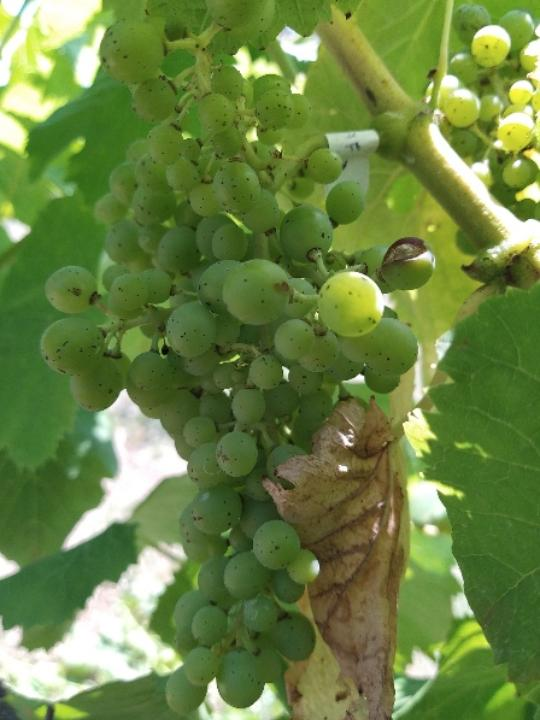grape: (36, 0, 441, 720)
